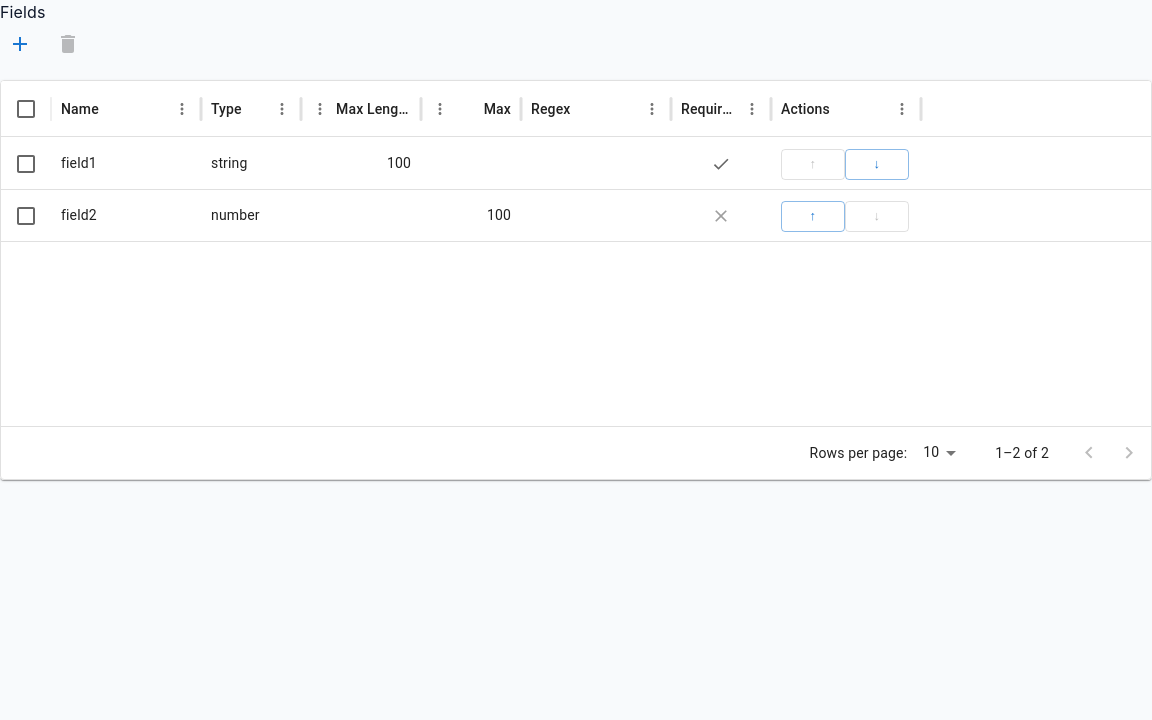
OrderedFieldsDataGrid › shows confirmation dialog when clicking Delete Selected with ticked fields
What coordinates should you click on to do the following:
click the checkbox named "Select row"
I would click on:
 (26, 164)
Its box is [14,152,38,176].
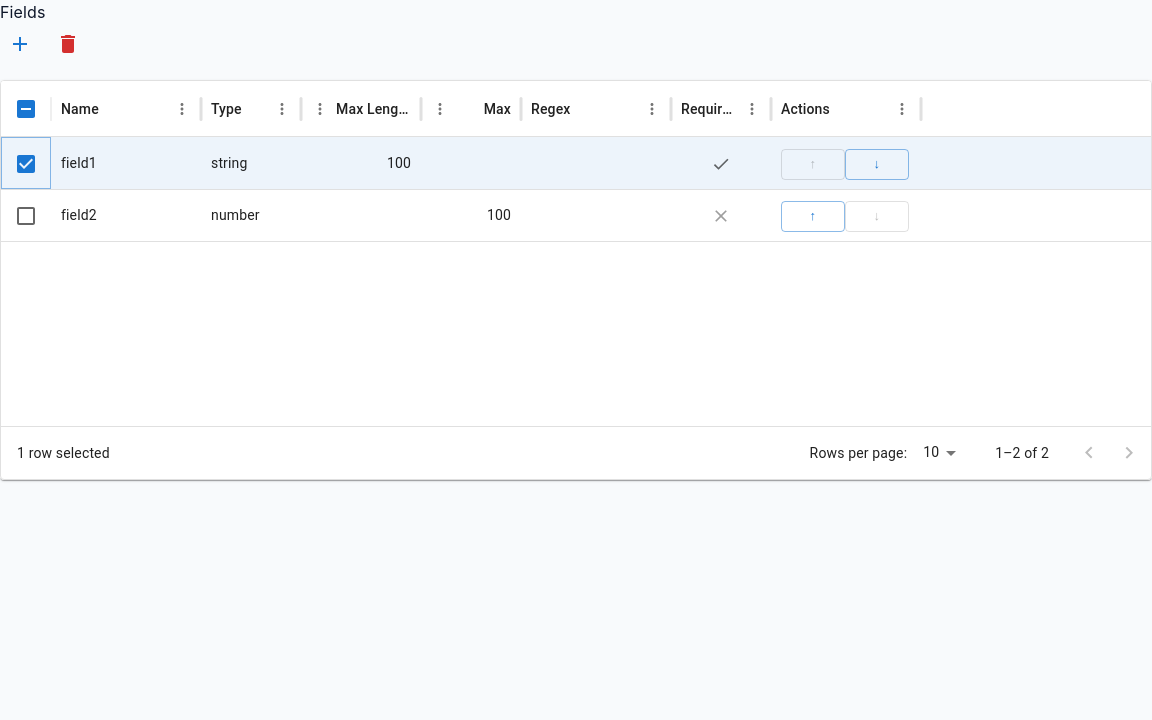
What coordinates should you click on to do the following:
click the button named "delete selected"
I would click on:
 (68, 44)
Its box is [48,24,88,64].
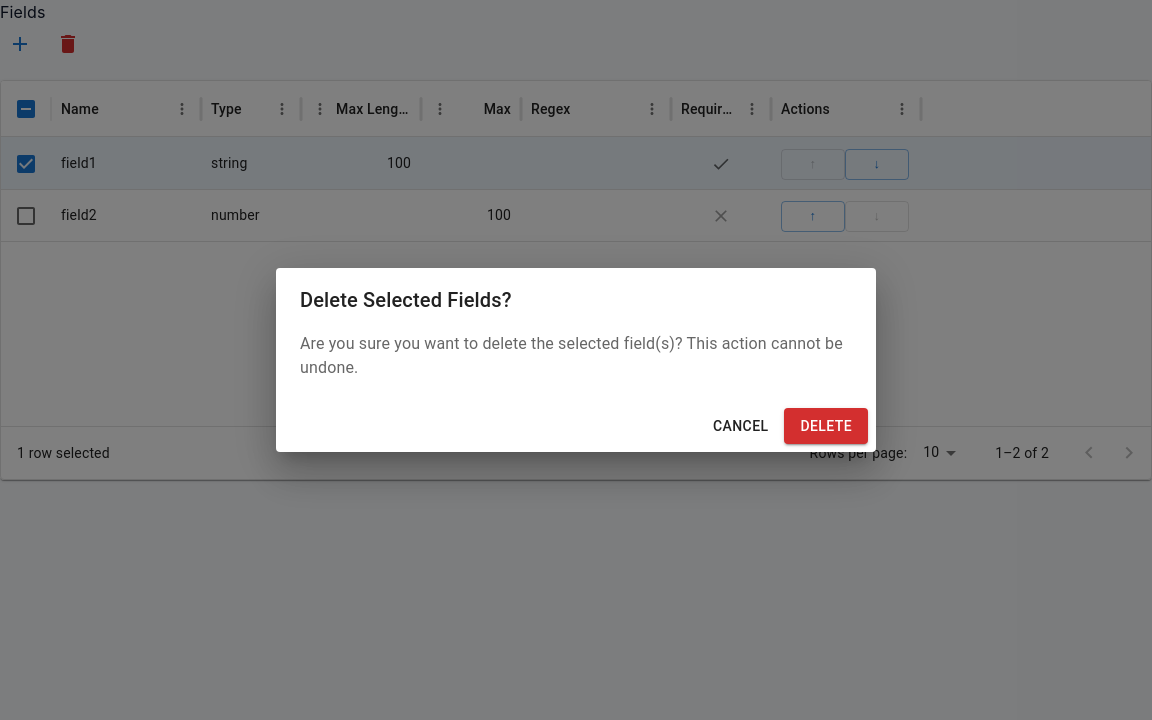
Expected: the dialog is shown, [276,268,876,452]
Expected: the heading "Delete Selected Fields?" is shown, [300,288,512,312]
